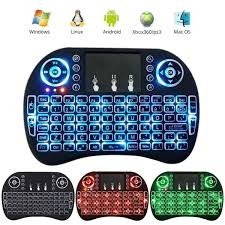keyboard: (15, 41, 203, 174)
